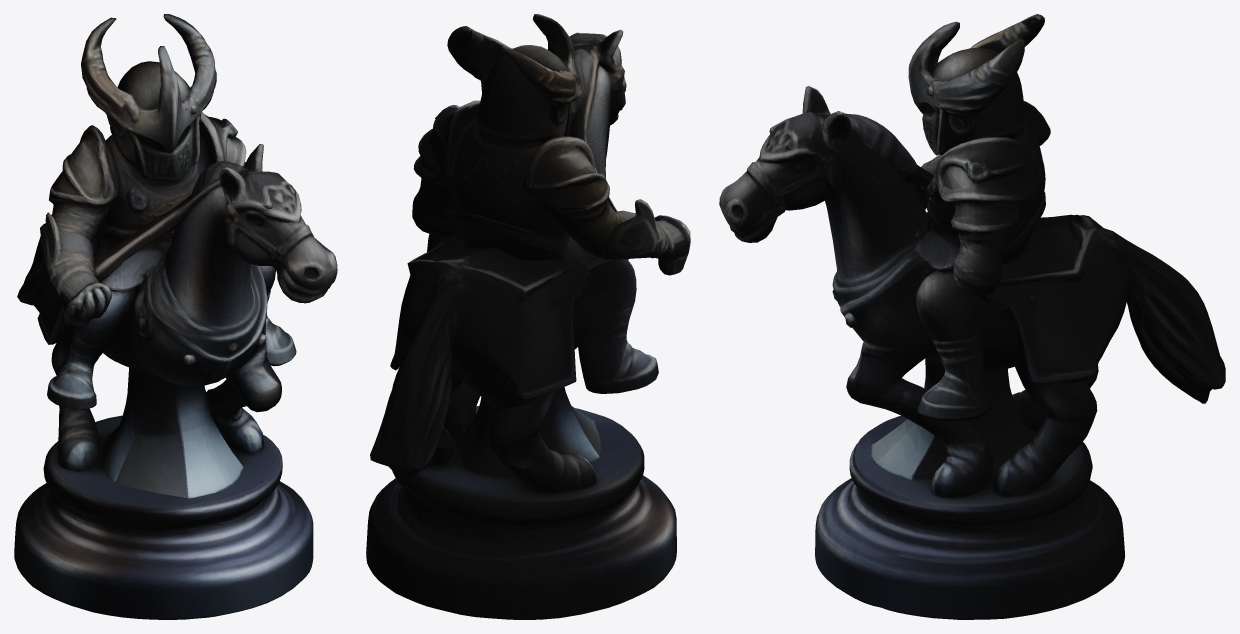
Rendered from knight.glb.
The picture shows the model from 3 angles, left to right: view 1: azimuth 30°, elevation 25°; view 2: azimuth 150°, elevation 25°; view 3: azimuth 270°, elevation 25°; orthographic projection. The views are drawn at different scales.
Visible parts, largest first — view 1: world; view 2: world; view 3: world.
Part boxes in pixels (<box>): world: <box>14,14,337,619</box>; world: <box>366,14,690,619</box>; world: <box>719,14,1225,619</box>.
Bounding box in the file's own units: 0.5248 × 1 × 0.8673.
1 material, 1 textured.
